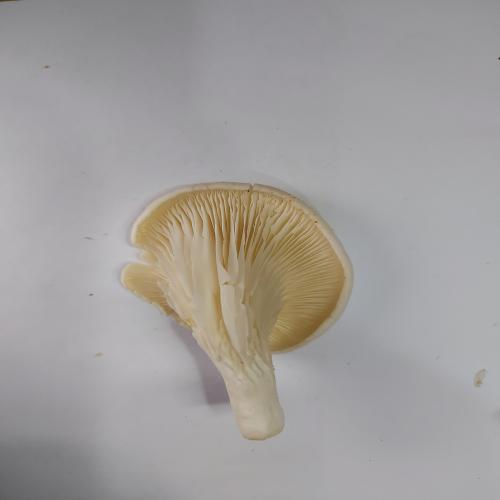Oyster Mushroom: (120, 180, 355, 441)
